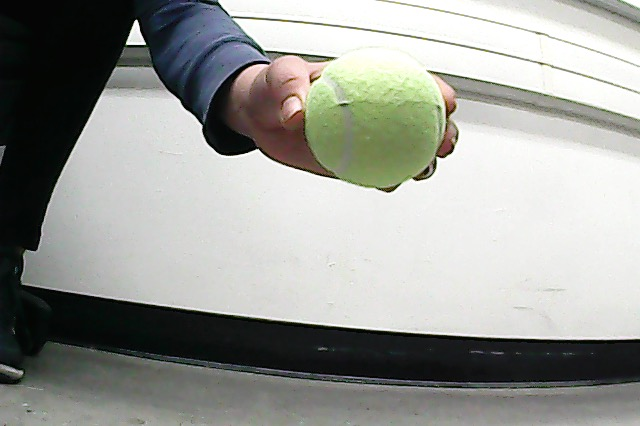ball: (306, 46, 447, 191)
